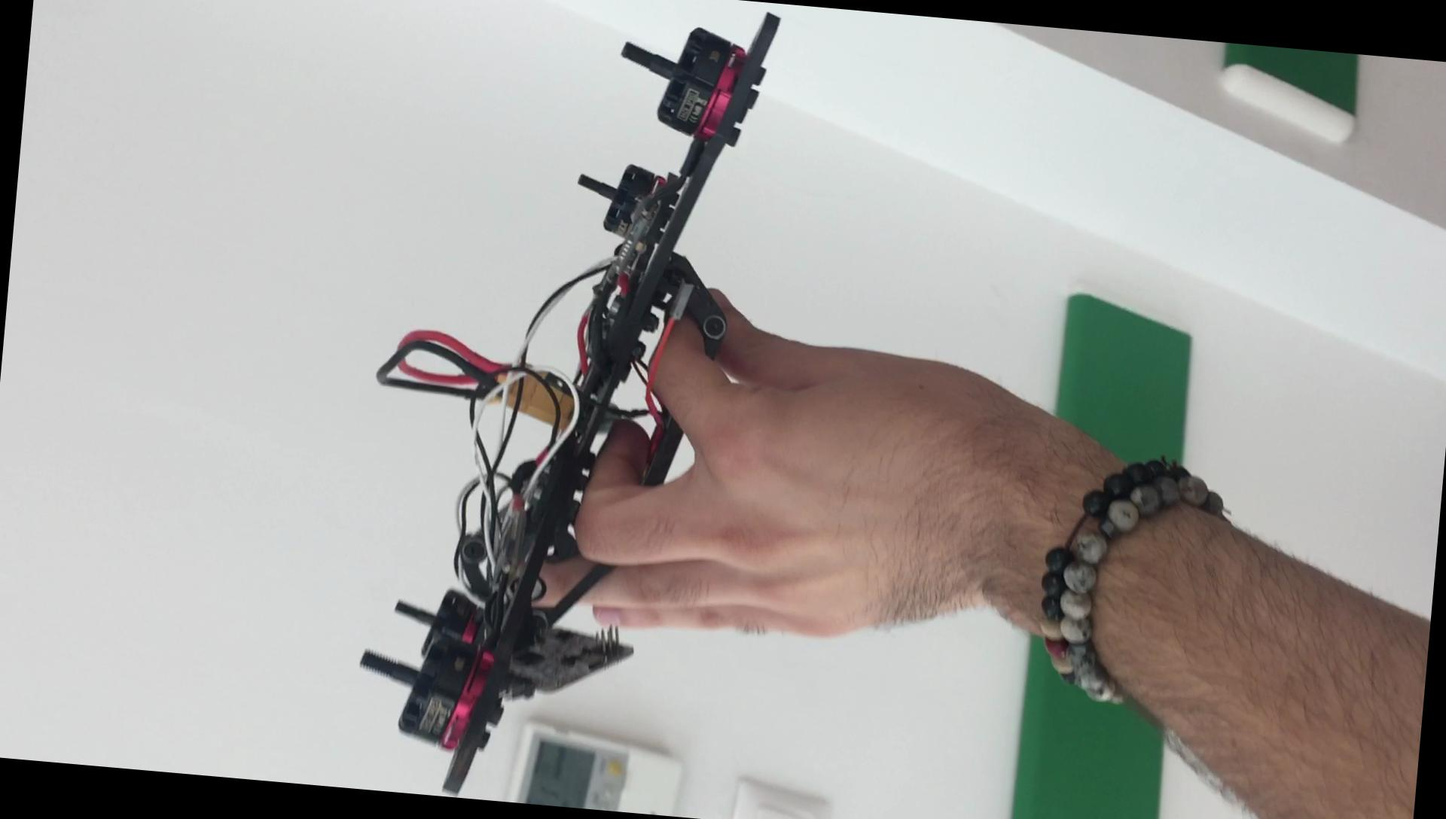drone: (365, 0, 789, 819)
